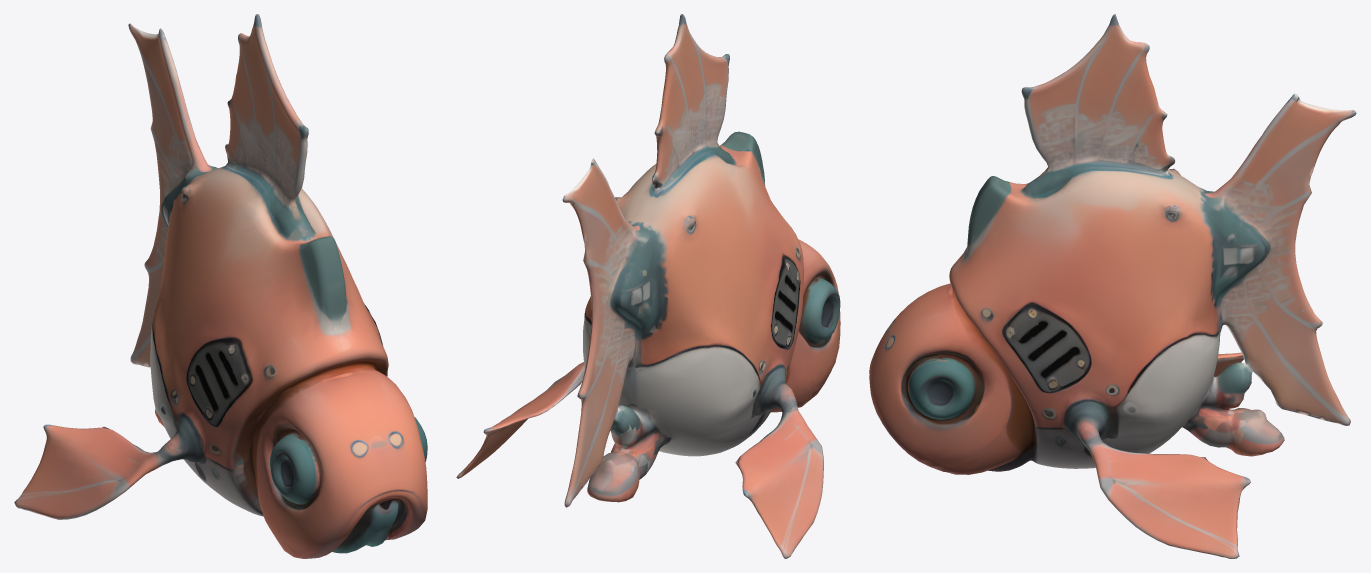
File: robotic_fish-xgQMX5Sd.glb
The picture shows the model from 3 angles, left to right: view 1: azimuth 30°, elevation 25°; view 2: azimuth 150°, elevation 25°; view 3: azimuth 270°, elevation 25°; orthographic projection. The views are drawn at different scales.
Visible parts, largest first — view 1: Object_2; view 2: Object_2; view 3: Object_2.
Part boxes in pixels (x1,y1,x2,y2): Object_2: (14, 14, 427, 558); Object_2: (456, 14, 840, 558); Object_2: (869, 14, 1356, 558).
Size of the model in its own units: 1.28 by 1.7 by 1.62.
Materials: 1 (1 with a texture image).
